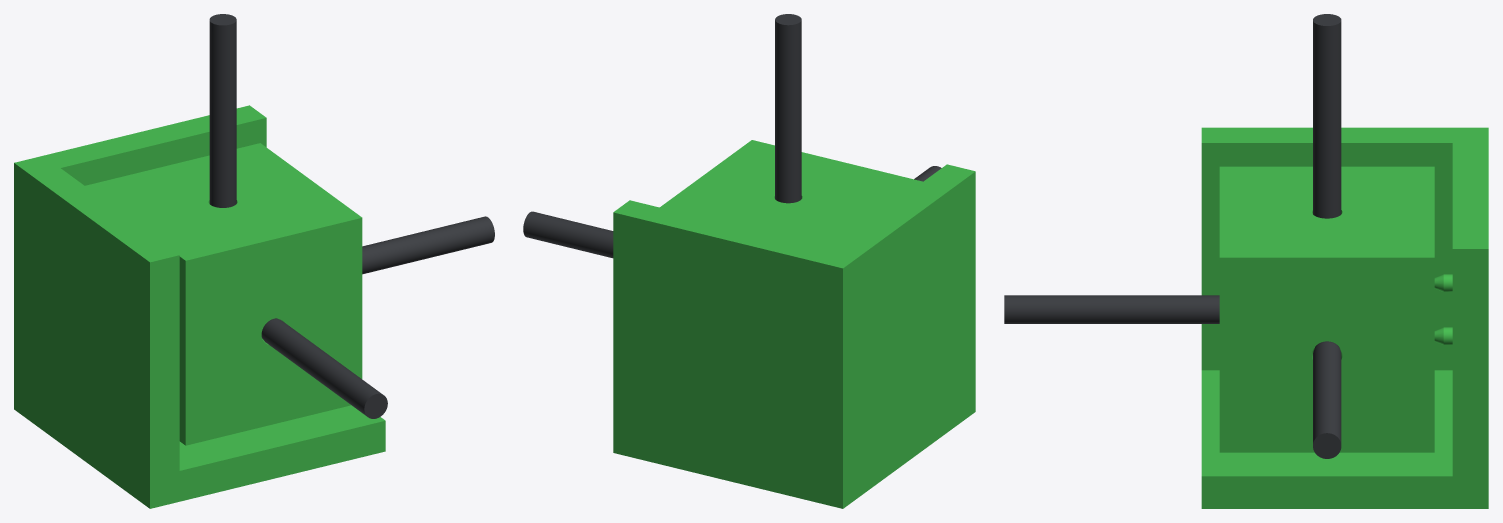
File: pin.glb
3 renders of one model, left to right at view 1: azimuth 30°, elevation 25°; view 2: azimuth 150°, elevation 25°; view 3: azimuth 270°, elevation 25°, orthographic. The views are drawn at different scales.
Parts seen in each view (by area): view 1: NAUO1, NAUO2, NAUO3, NAUO4, NAUO5; view 2: NAUO1, NAUO2, NAUO3, NAUO5; view 3: NAUO2, NAUO1, NAUO4, NAUO3, NAUO5.
Part boxes in pixels (x1=…): NAUO1: x1=14, y1=105, x2=385, y2=508; NAUO2: x1=85, y1=143, x2=362, y2=445; NAUO3: x1=209, y1=14, x2=236, y2=207; NAUO4: x1=261, y1=318, x2=387, y2=418; NAUO5: x1=362, y1=216, x2=494, y2=274; NAUO1: x1=613, y1=164, x2=975, y2=508; NAUO2: x1=660, y1=140, x2=922, y2=249; NAUO3: x1=775, y1=14, x2=801, y2=203; NAUO5: x1=523, y1=211, x2=613, y2=258; NAUO2: x1=1219, y1=166, x2=1434, y2=452; NAUO1: x1=1201, y1=127, x2=1488, y2=508; NAUO4: x1=1004, y1=295, x2=1219, y2=323; NAUO3: x1=1313, y1=14, x2=1341, y2=218; NAUO5: x1=1313, y1=341, x2=1341, y2=458.
Bounding box in the file's own units: 0.135 × 0.1341 × 0.135.
